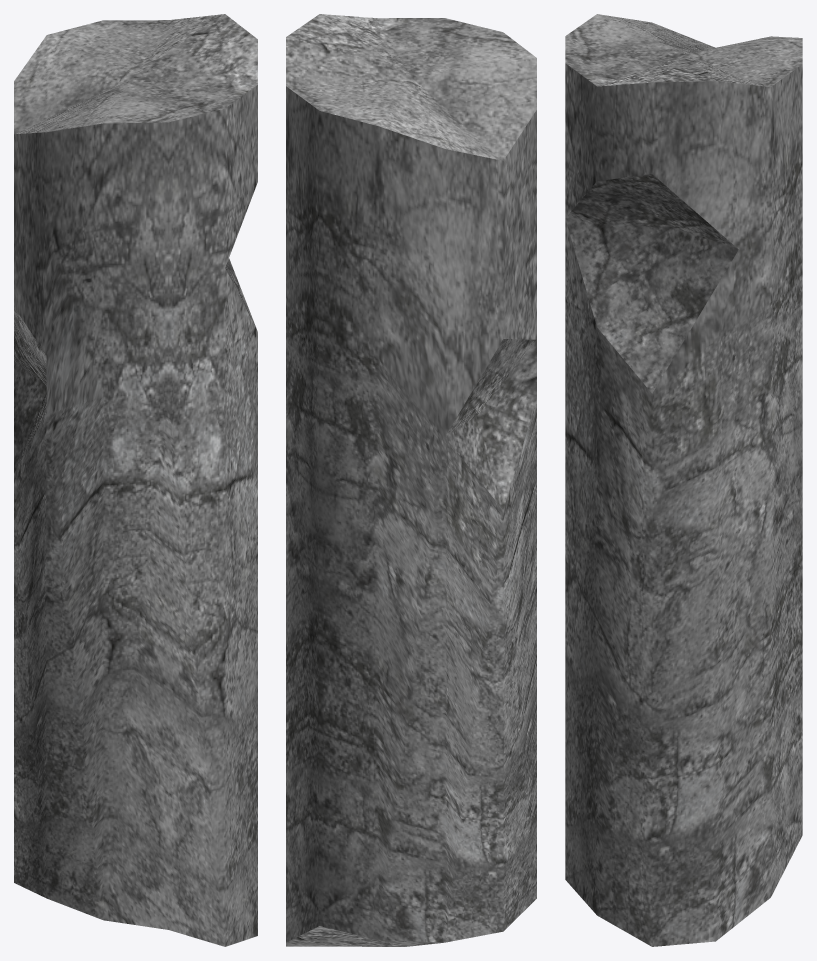
File: materials_3_rubble_13.fbx
The picture shows the model from 3 angles, left to right: view 1: azimuth 30°, elevation 25°; view 2: azimuth 150°, elevation 25°; view 3: azimuth 270°, elevation 25°; orthographic projection. The views are drawn at different scales.
Visible parts, largest first — view 1: materials_3_rubble_13; view 2: materials_3_rubble_13; view 3: materials_3_rubble_13.
Boxes of the visible parts, x1=… form: materials_3_rubble_13: x1=14, y1=14, x2=257, y2=946; materials_3_rubble_13: x1=286, y1=14, x2=536, y2=946; materials_3_rubble_13: x1=565, y1=14, x2=802, y2=946.
Bounding box in the file's own units: 28.07 × 113 × 28.07.
